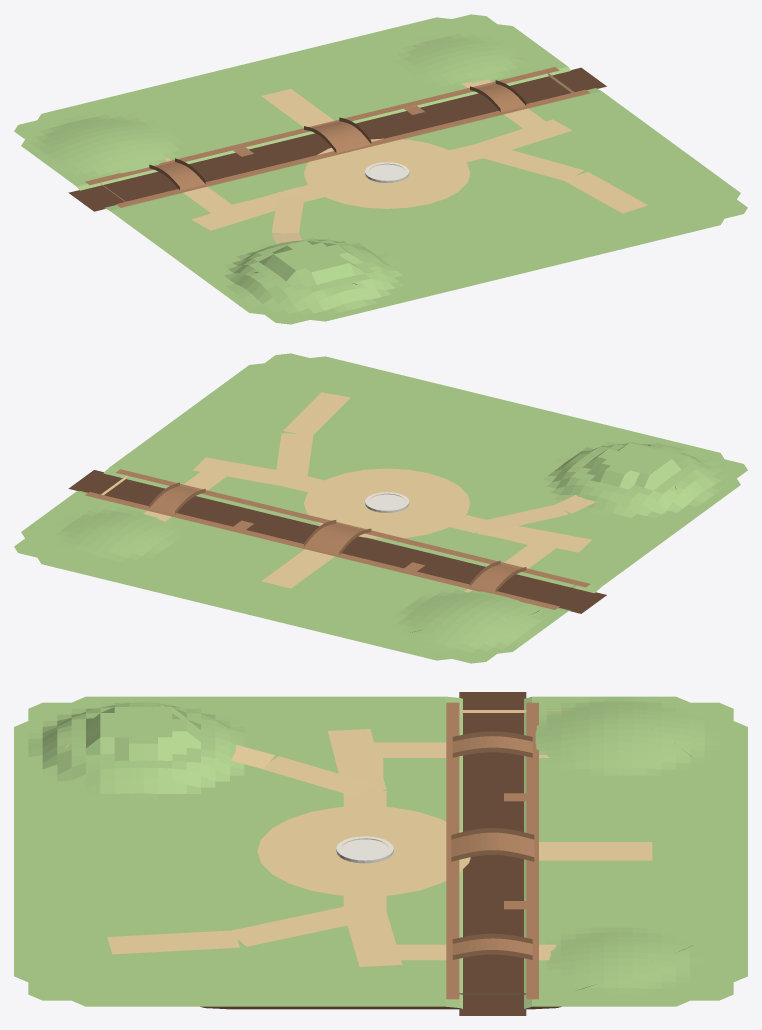
The model's file is bwed-village-diorama.glb.
3 renders of one model, top to bottom at view 1: azimuth 30°, elevation 25°; view 2: azimuth 150°, elevation 25°; view 3: azimuth 270°, elevation 25°, orthographic. The views are drawn at different scales.
Visible parts, largest first — view 1: Terrain_Matcha, Roads_Caramel, Choco_Water, Quays_Wood, Bridge_50.0, Bridge_20.0, Bridge_80.0, Fountain_Basin; view 2: Terrain_Matcha, Roads_Caramel, Choco_Water, Quays_Wood, Bridge_50.0, Bridge_80.0, Bridge_20.0, Fountain_Basin; view 3: Terrain_Matcha, Roads_Caramel, Choco_Water, Quays_Wood, Bridge_50.0, Bridge_20.0, Bridge_80.0, Diorama_Cliffs, Fountain_Basin.
Part boxes in pixels (<box>): Terrain_Matcha: <box>14,14,747,324</box>; Roads_Caramel: <box>165,79,647,243</box>; Choco_Water: <box>68,67,606,211</box>; Quays_Wood: <box>85,67,590,207</box>; Bridge_50.0: <box>304,117,371,153</box>; Bridge_20.0: <box>149,158,205,190</box>; Bridge_80.0: <box>470,80,526,112</box>; Fountain_Basin: <box>365,162,409,182</box>; Terrain_Matcha: <box>14,353,747,663</box>; Roads_Caramel: <box>143,392,596,592</box>; Choco_Water: <box>68,470,606,613</box>; Quays_Wood: <box>85,469,590,609</box>; Bridge_50.0: <box>304,520,371,555</box>; Bridge_80.0: <box>149,482,205,514</box>; Bridge_20.0: <box>470,560,526,592</box>; Fountain_Basin: <box>365,492,409,512</box>; Terrain_Matcha: <box>14,696,747,1008</box>; Roads_Caramel: <box>107,729,652,966</box>; Choco_Water: <box>459,692,526,1015</box>; Quays_Wood: <box>446,702,538,999</box>; Bridge_50.0: <box>451,828,534,861</box>; Bridge_20.0: <box>452,731,532,757</box>; Bridge_80.0: <box>452,933,532,959</box>; Diorama_Cliffs: <box>65,705,692,1009</box>; Fountain_Basin: <box>336,836,393,863</box>.
Size of the model in its own units: 96 by 7.8 by 92.
